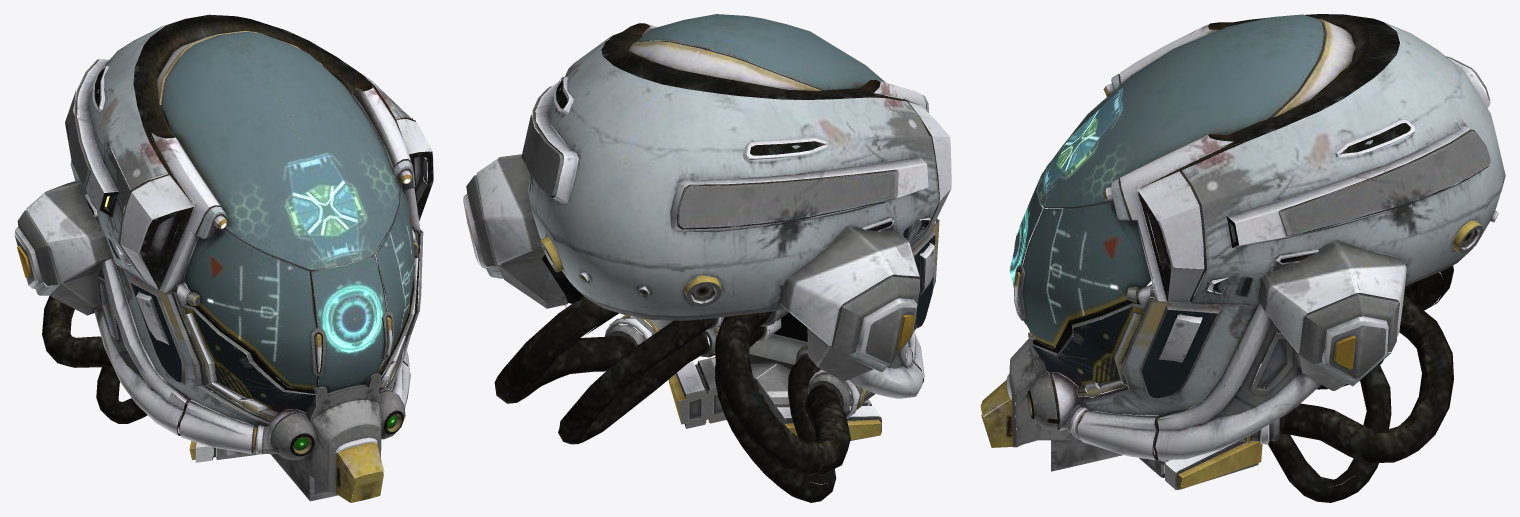
File: item.armor.drift_visor_helmet.glb
3 renders of one model, left to right at view 1: azimuth 30°, elevation 25°; view 2: azimuth 150°, elevation 25°; view 3: azimuth 270°, elevation 25°, orthographic. The views are drawn at different scales.
Parts seen in each view (by area): view 1: node_damagedHelmet_-6514; view 2: node_damagedHelmet_-6514; view 3: node_damagedHelmet_-6514.
Part boxes in pixels (x1=…): node_damagedHelmet_-6514: x1=14, y1=14, x2=433, y2=502; node_damagedHelmet_-6514: x1=463, y1=14, x2=951, y2=502; node_damagedHelmet_-6514: x1=980, y1=14, x2=1505, y2=502.
Size of the model in its own units: 1.13 by 1.08 by 1.2.
Materials: 1 (1 with a texture image).
